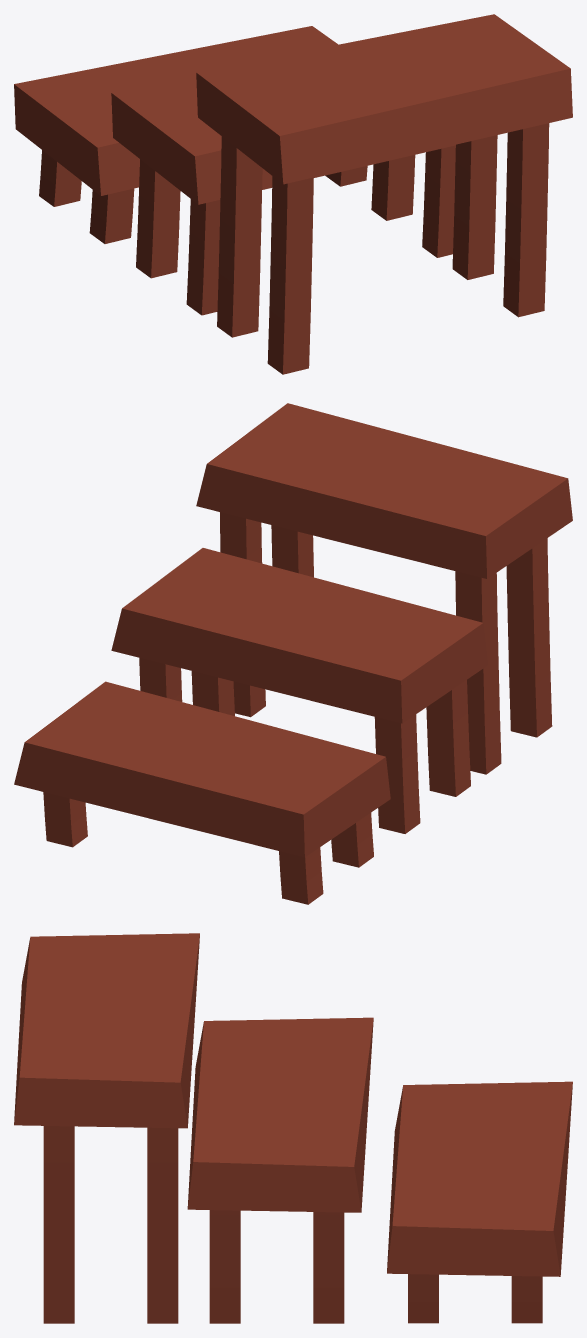
Rendered from stairs_1a.fbx.
3 views of the same model, one above another, from view 1: azimuth 30°, elevation 25°; view 2: azimuth 150°, elevation 25°; view 3: azimuth 270°, elevation 25° (orthographic). The views are drawn at different scales.
Visible parts, largest first — view 1: stairs_1a; view 2: stairs_1a; view 3: stairs_1a.
Part boxes in pixels (left/top/right/bottom): stairs_1a: left=14, top=14, right=572, bottom=374; stairs_1a: left=14, top=403, right=572, bottom=904; stairs_1a: left=14, top=933, right=572, bottom=1323.
Size of the model in its own units: 106 by 85.05 by 169.
